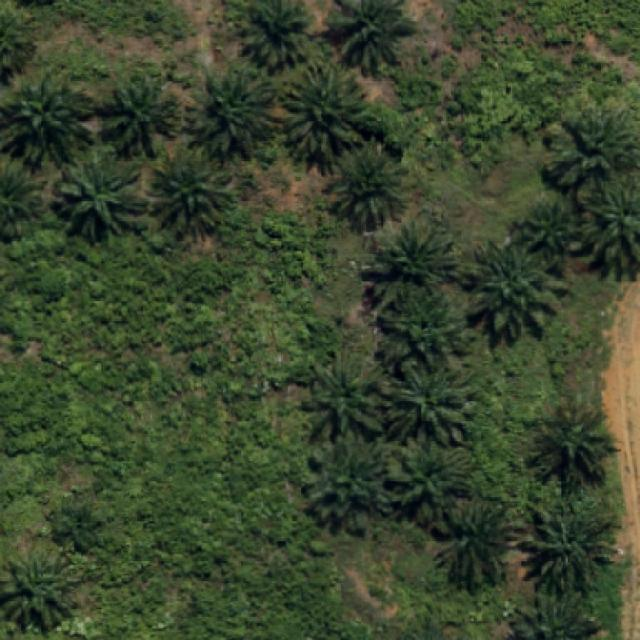Kelapa_Sawit: (458, 236, 572, 344), (358, 217, 464, 323), (280, 60, 372, 175), (541, 96, 640, 202), (520, 493, 618, 598), (301, 430, 394, 539), (526, 396, 616, 502), (2, 70, 96, 170), (184, 68, 281, 164), (56, 153, 150, 250), (384, 437, 478, 534), (301, 344, 390, 445), (388, 359, 478, 452), (440, 492, 515, 596), (153, 151, 241, 238), (101, 67, 184, 156), (330, 139, 405, 236), (0, 541, 72, 636), (234, 0, 314, 77), (515, 194, 580, 258)
